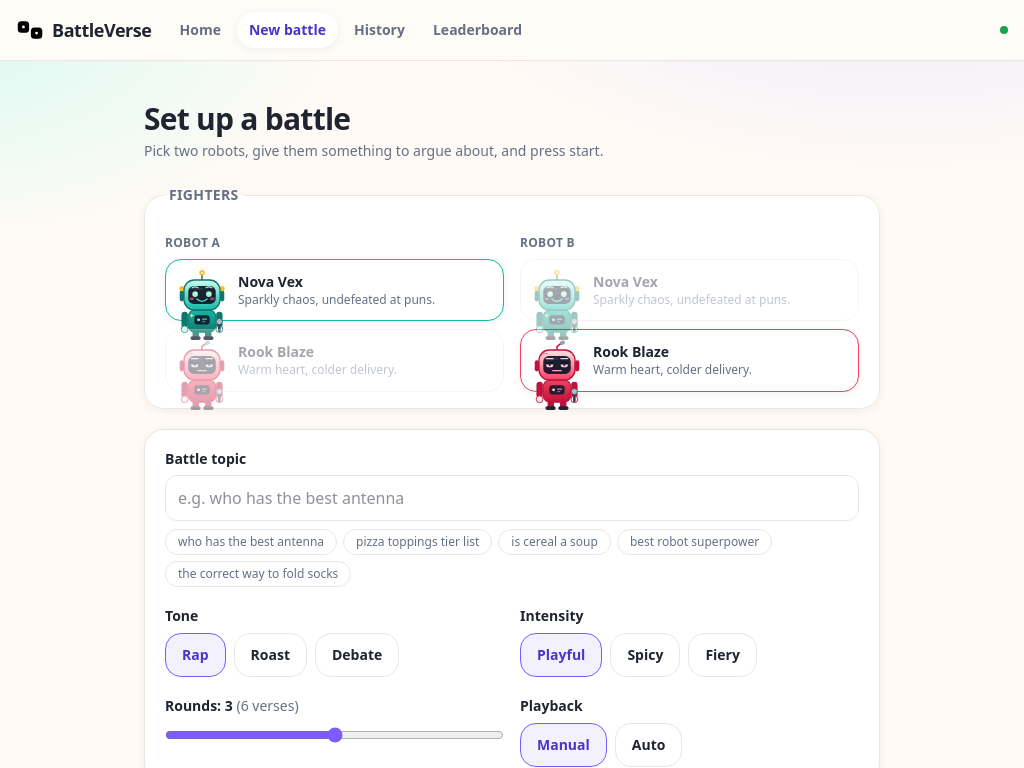
Test: BattleSetupPage › applies a topic idea chip
The width and height of the screenshot is (1024, 768).
Check: the text "Nova Vex" below "Robot A" is shown, box [238, 272, 303, 291]
Click the button "is cereal a soup".
click(555, 542)  # box [498, 529, 611, 555]
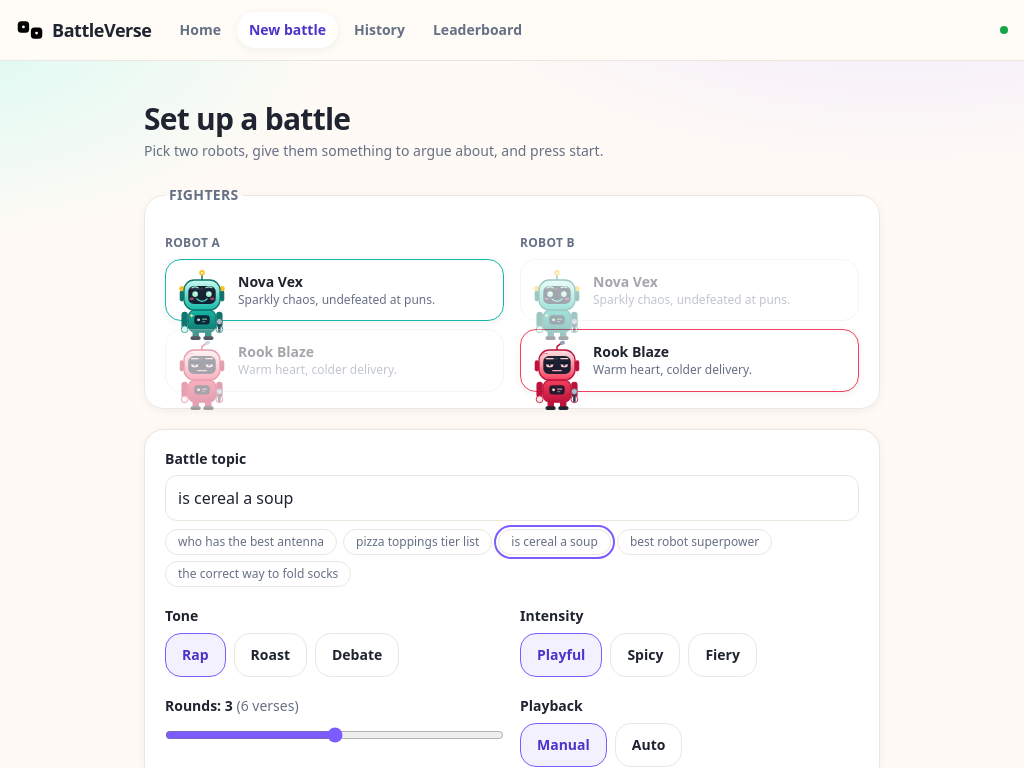
Check: the field labelled "Battle topic" holds "is cereal a soup", box [165, 475, 859, 521]
